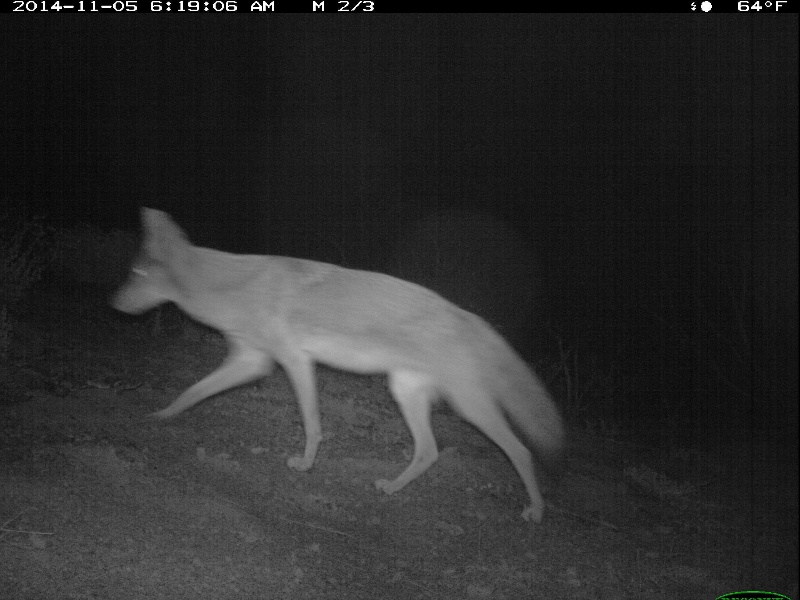coyote: (107, 200, 564, 523)
